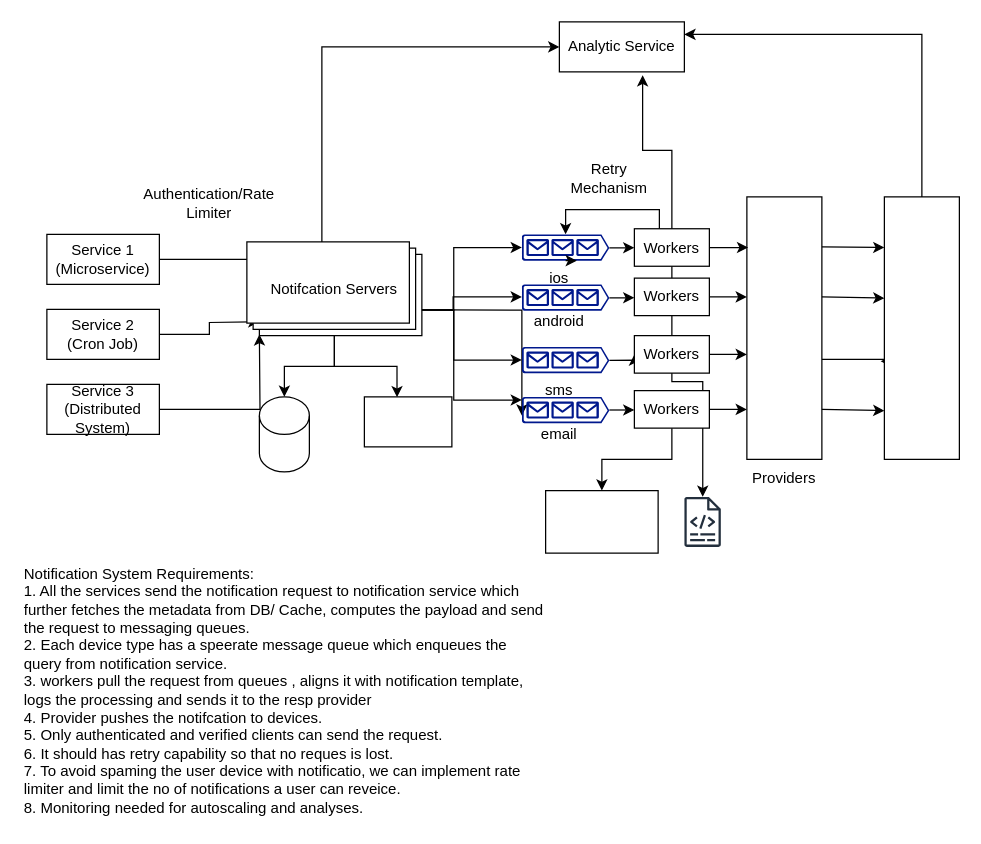
This 981x844 diagram has some shape labels left out. The shapes that lost their labels are listed below. From the top down, each one's centre as x and y in pixels, then its label:
point 784,327: APN FCM SMS EMAIL
point 921,327: ios android SMS EMAIL
point 283,434: DB
point 407,421: Cache
point 601,521: Notification Template
